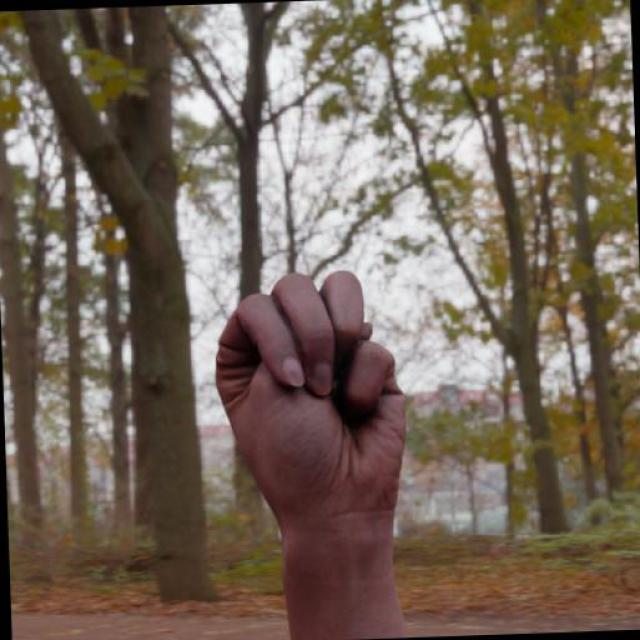M: (208, 266, 412, 519)
